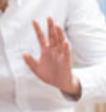down: (20, 13, 74, 90)
